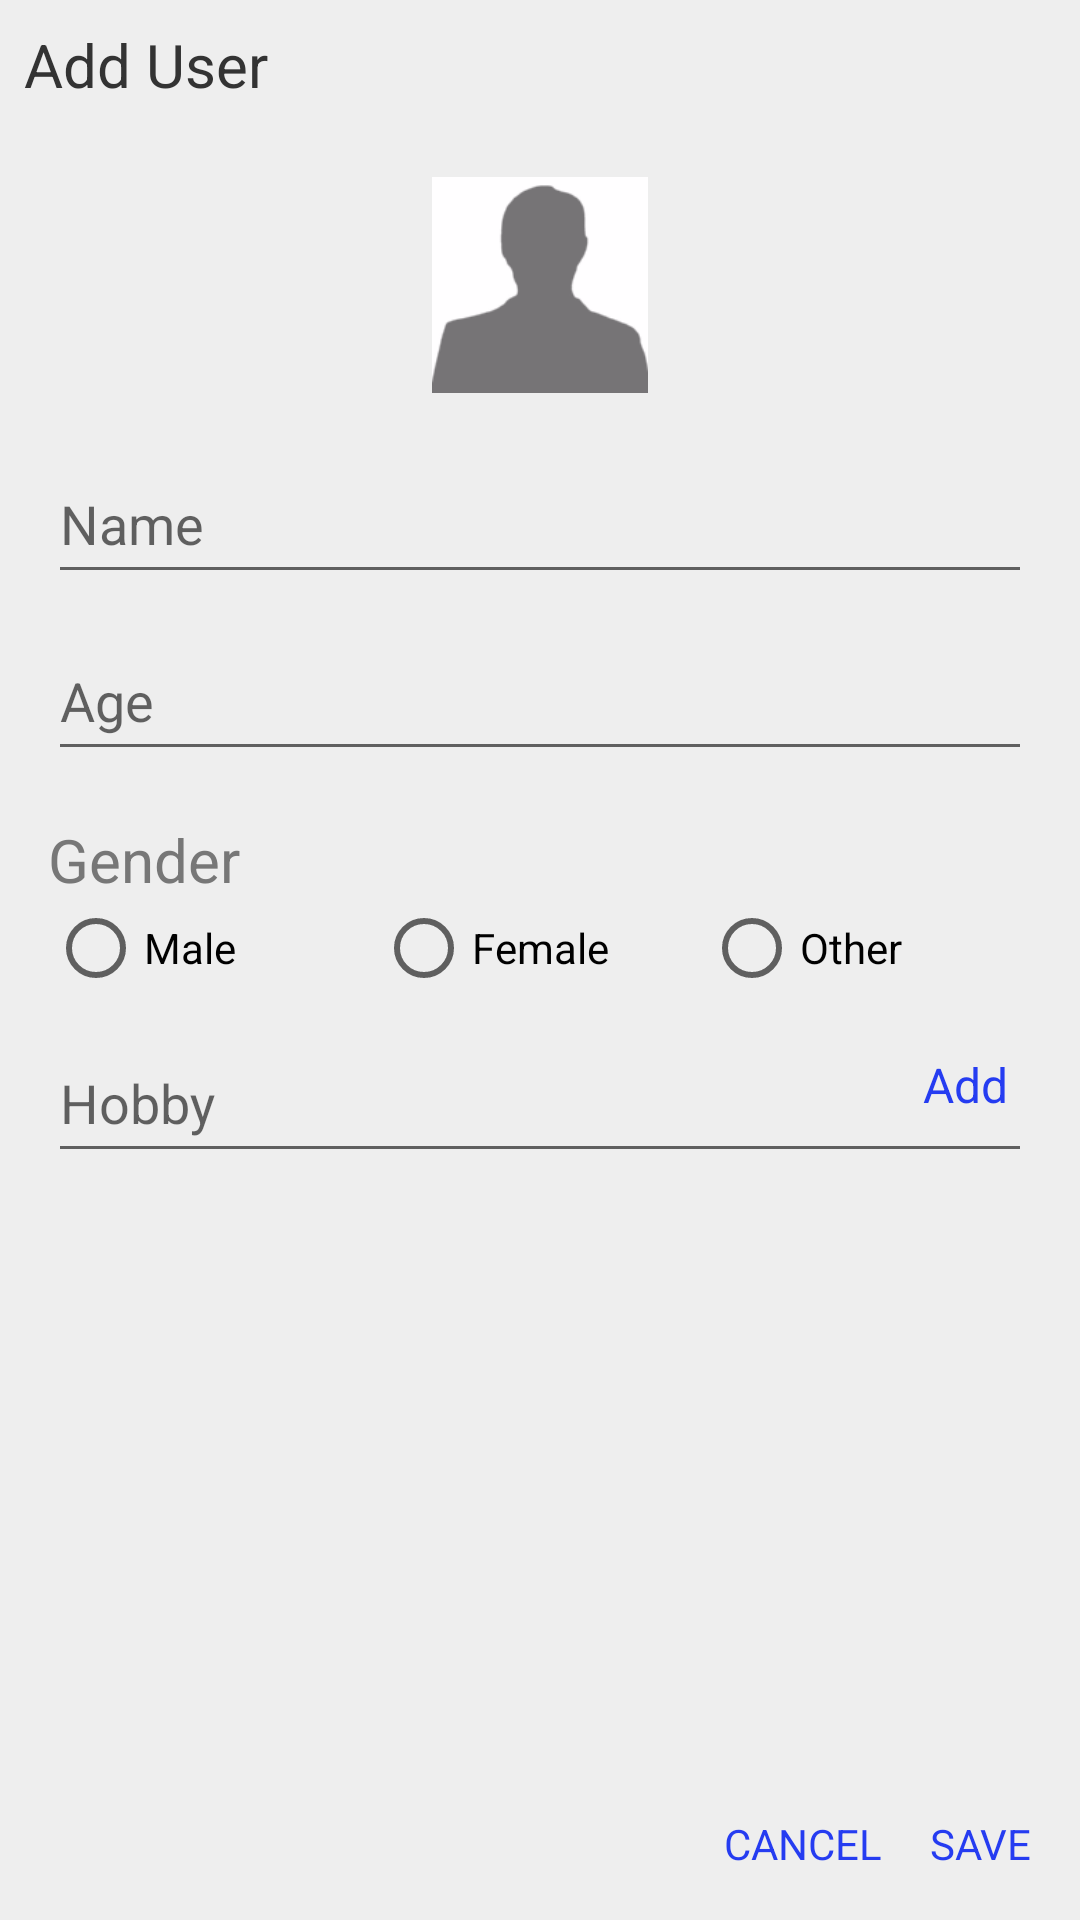

Where to tap for icons on this 1080*1920 app screen, as (x,y):
noperson: (540,289)
